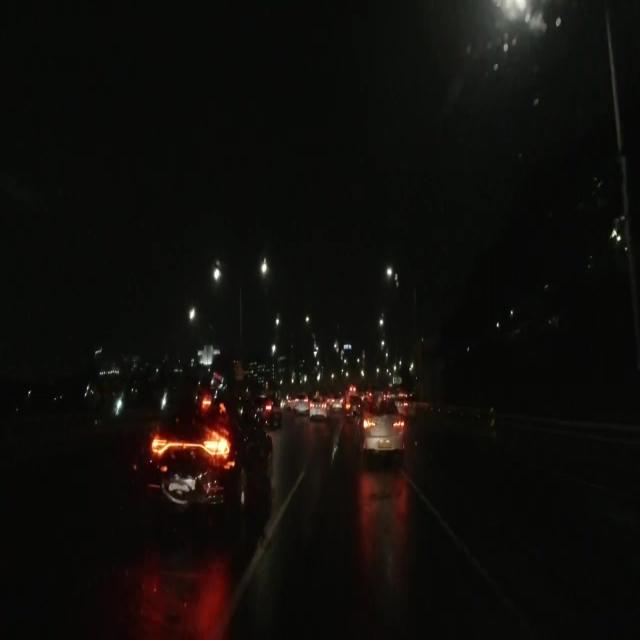Car: (142, 395, 275, 503), (363, 393, 404, 455), (309, 393, 327, 415)
